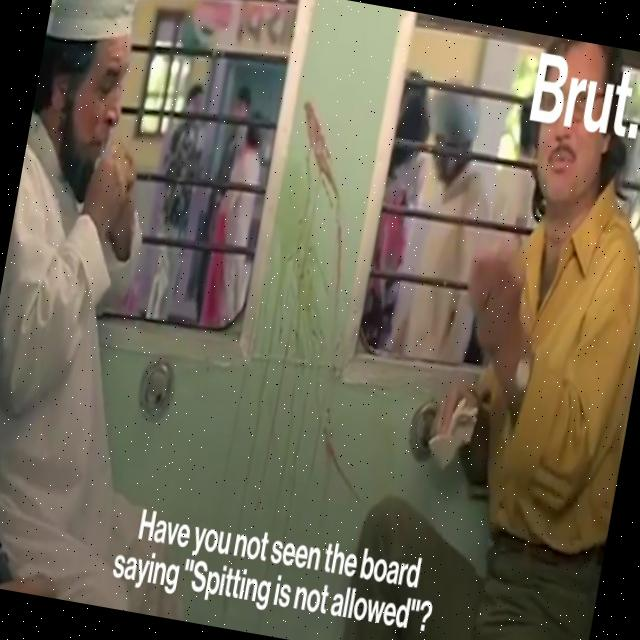spit: (230, 82, 408, 460)
